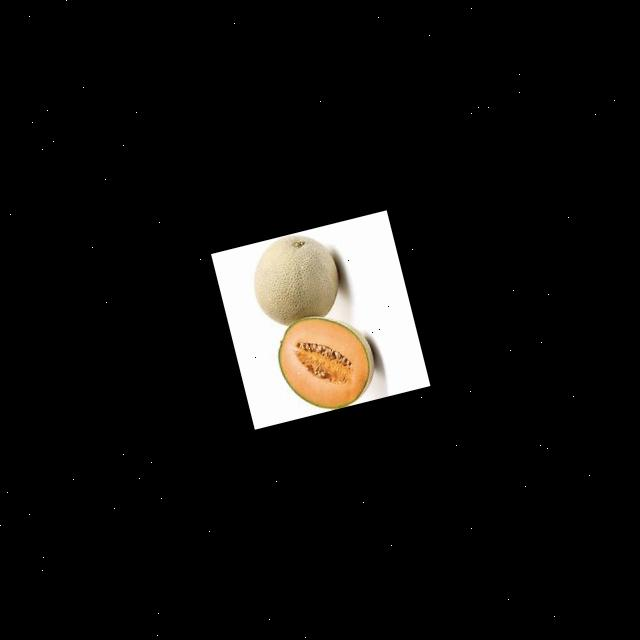Hami Melon: (268, 304, 383, 421), (241, 227, 347, 331)
